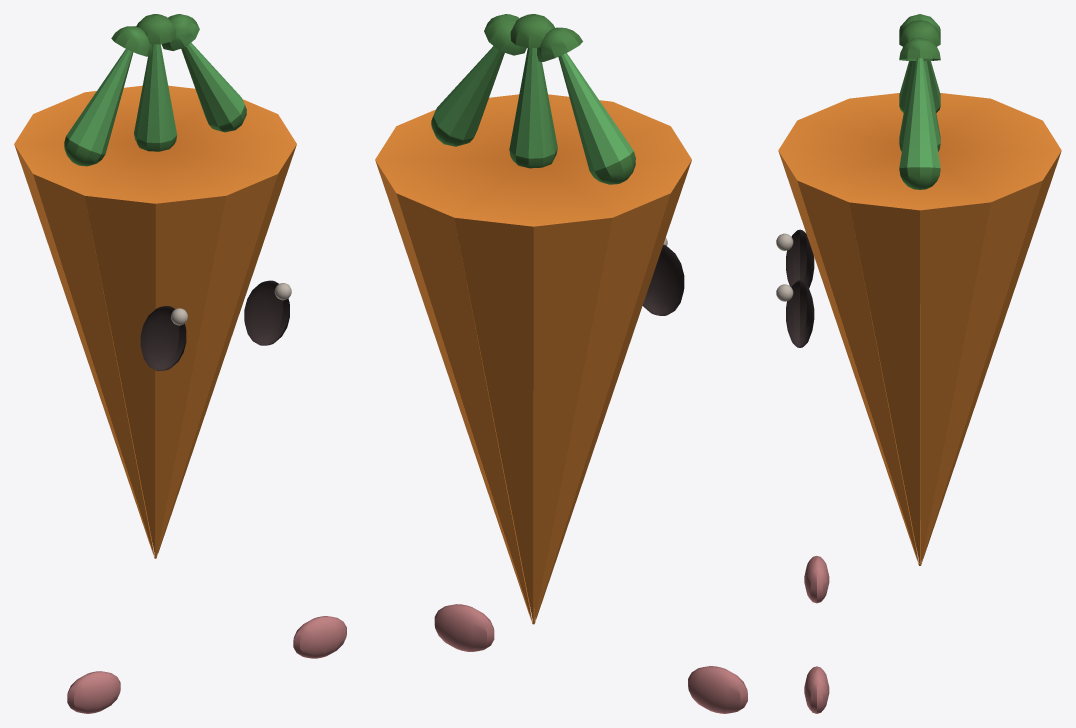
3 views of the same model, side by side, from view 1: azimuth 30°, elevation 25°; view 2: azimuth 150°, elevation 25°; view 3: azimuth 270°, elevation 25° (orthographic). The views are drawn at different scales.
Visible parts, largest first — view 1: pet_p3cc05cd4; view 2: pet_p3cc05cd4; view 3: pet_p3cc05cd4.
Part boxes in pixels (x1,y1,x2,y2): pet_p3cc05cd4: [14, 14, 346, 713]; pet_p3cc05cd4: [375, 14, 747, 713]; pet_p3cc05cd4: [776, 14, 1061, 713].
Size of the model in its own units: 0.2967 by 0.6402 by 0.2619.
